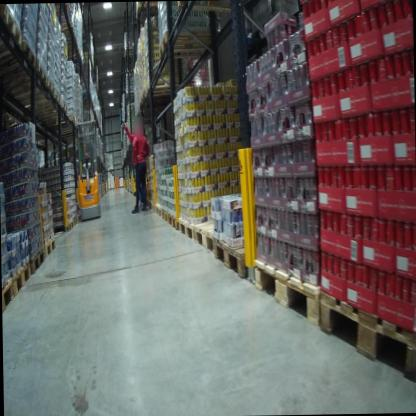pallet: (317, 286, 416, 384), (254, 247, 321, 334), (158, 24, 222, 60), (0, 53, 45, 102), (214, 230, 259, 278), (195, 214, 241, 258), (0, 32, 36, 88), (15, 75, 56, 109), (0, 8, 25, 61), (178, 1, 244, 17), (11, 260, 34, 300), (23, 100, 69, 119), (26, 90, 61, 114), (143, 79, 191, 95), (35, 113, 75, 132), (30, 245, 49, 276), (1, 275, 15, 315), (179, 214, 197, 244), (44, 232, 57, 265), (49, 219, 74, 234), (134, 6, 160, 20), (168, 208, 179, 234), (155, 200, 164, 218), (160, 207, 169, 224), (71, 213, 80, 229)
pallet_truck: (75, 115, 106, 222)
